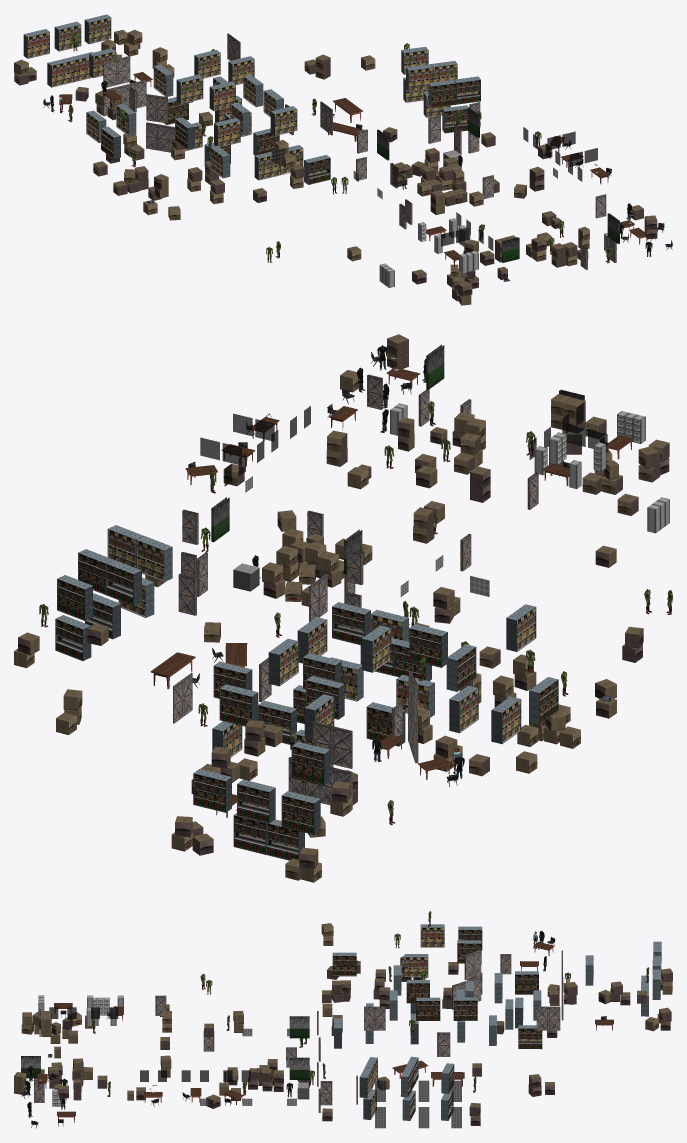
3 renders of one model, top to bottom at view 1: azimuth 30°, elevation 25°; view 2: azimuth 150°, elevation 25°; view 3: azimuth 270°, elevation 25°, orthographic. The views are drawn at different scales.
Visible parts, largest first — view 1: primary, secondary; view 2: primary, secondary; view 3: primary, secondary.
Boxes of the visible parts, x1,y1,x2,y2 form: primary: (14,14,672,305); secondary: (271,127,630,250); primary: (14,334,672,882); secondary: (200,359,607,596); primary: (14,911,672,1128); secondary: (49,1007,461,1128).
Size of the model in its own units: 1961 by 363 by 3288.
Materials: 350 (350 with a texture image).
